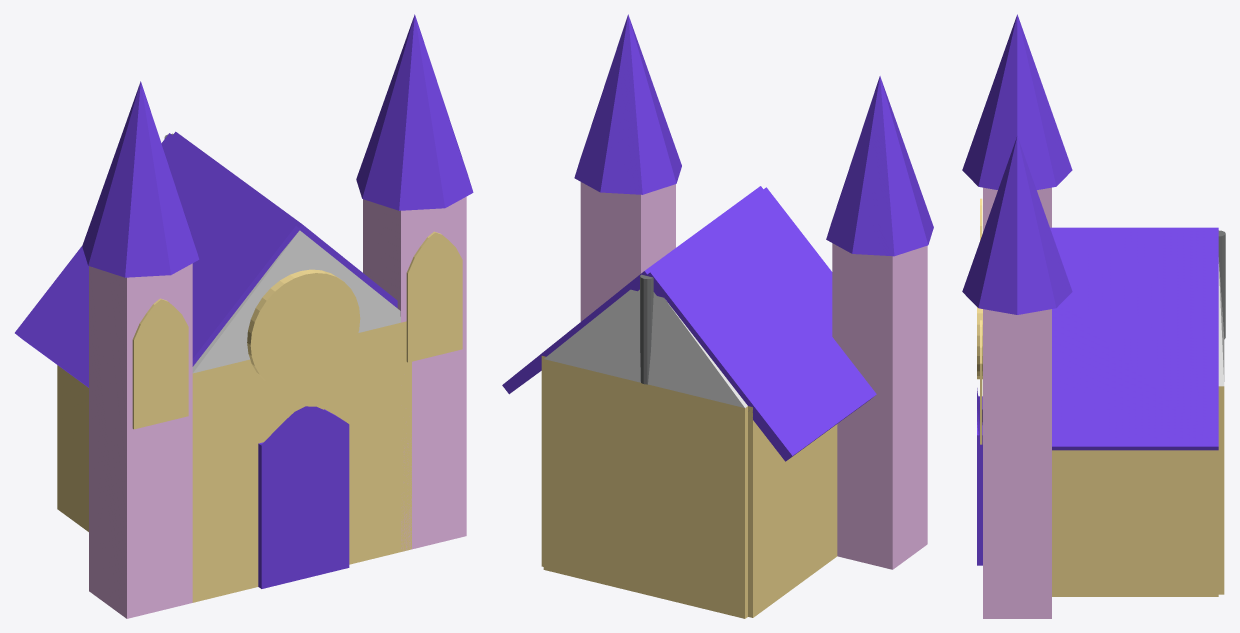
The model's file is HouseC.fbx.
3 renders of one model, left to right at view 1: azimuth 30°, elevation 25°; view 2: azimuth 150°, elevation 25°; view 3: azimuth 270°, elevation 25°, orthographic. The views are drawn at different scales.
Parts seen in each view (by area): view 1: HouseC; view 2: HouseC; view 3: HouseC.
Boxes of the visible parts, x1,y1,x2,y2 form: HouseC: (15,14,473,618); HouseC: (502,14,933,618); HouseC: (962,14,1225,618).
Size of the model in its own units: 6.92 by 9 by 4.59.
